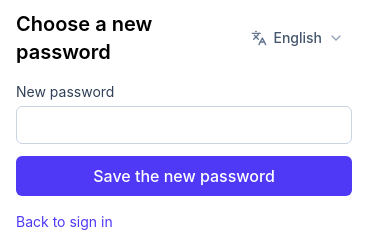
Test: ResetPasswordPage (AUTH-4) › sets the new password from the token in the link
Type "brandnewpass1" into the password field labelled "New password". click: (184, 125)
box: [16,106,352,144]
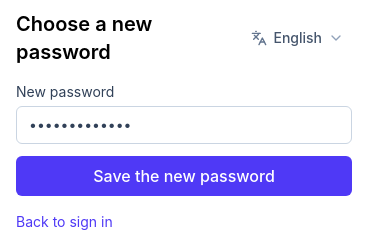
Click the button "Save the new password". click: (184, 176)
box: [16,156,352,196]
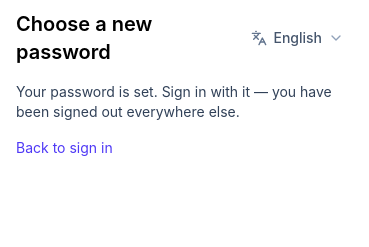
Result: the text "Your password is set" is shown at [16,83,332,120]
